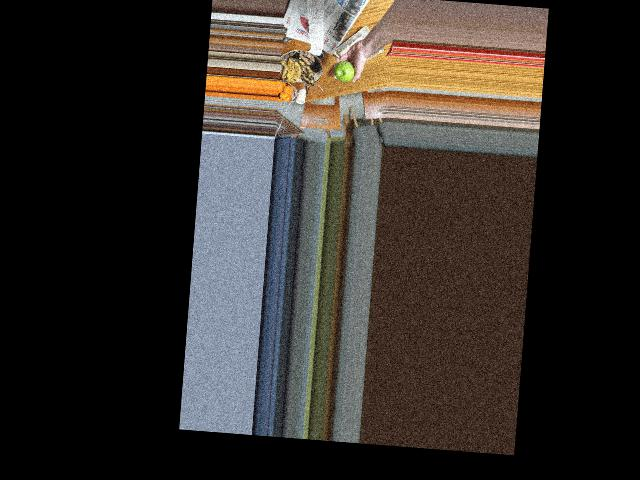apple: (331, 57, 357, 87)
